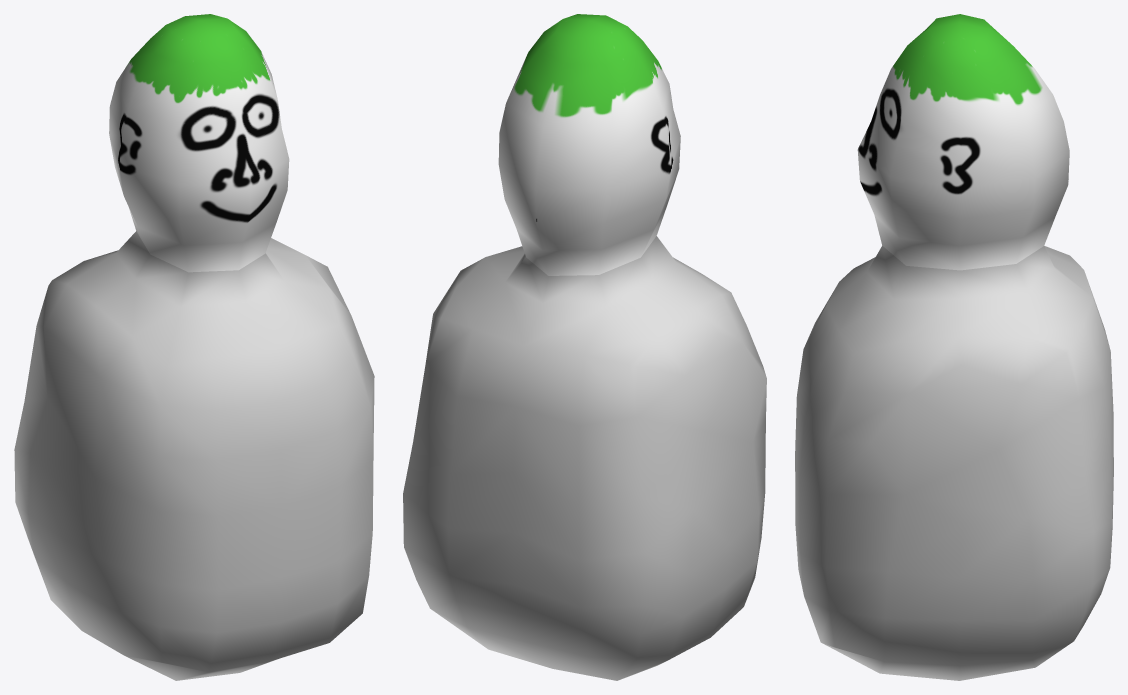
The model's file is CrowdPerson.fbx.
3 renders of one model, left to right at view 1: azimuth 30°, elevation 25°; view 2: azimuth 150°, elevation 25°; view 3: azimuth 270°, elevation 25°, orthographic.
Parts seen in each view (by area): view 1: CrowdPerson; view 2: CrowdPerson; view 3: CrowdPerson.
Part boxes in pixels (left/top/right/bottom): CrowdPerson: left=14, top=14, right=374, bottom=680; CrowdPerson: left=403, top=14, right=766, bottom=680; CrowdPerson: left=795, top=14, right=1113, bottom=680.
Size of the model in its own units: 200 by 439 by 200.
